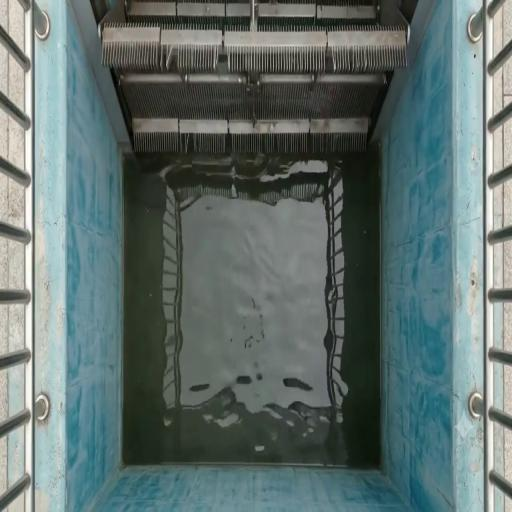rake_broken: (266, 126, 336, 169), (313, 37, 367, 87), (204, 35, 255, 83), (210, 125, 261, 169), (152, 37, 186, 84), (168, 116, 197, 161)
